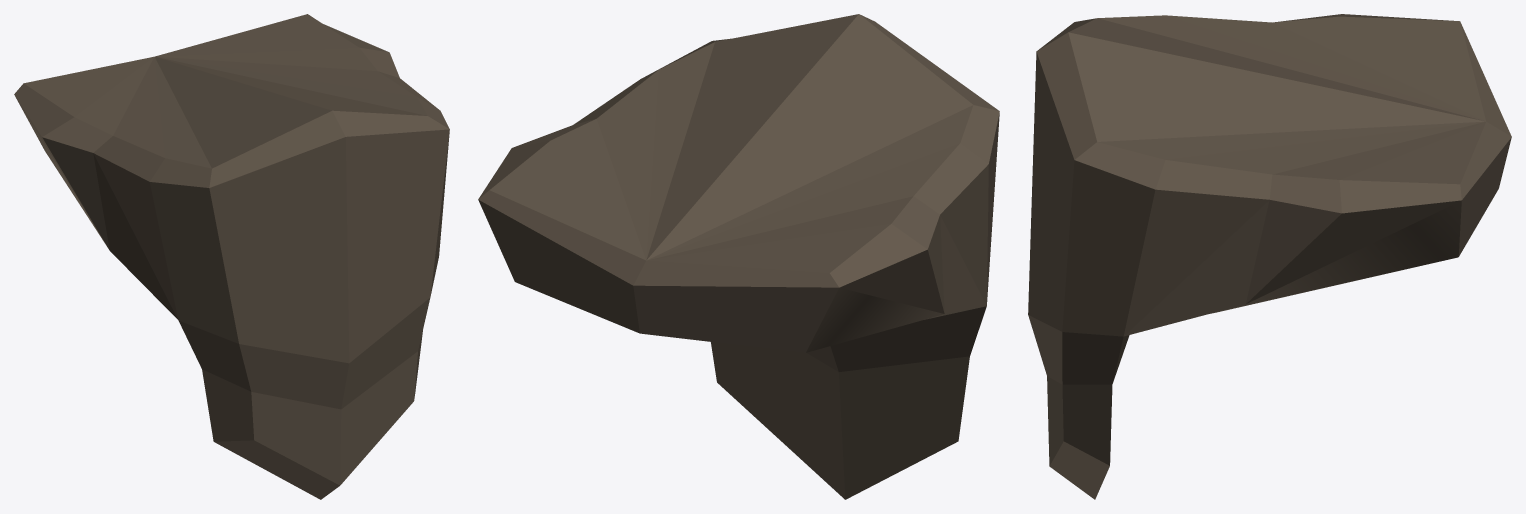
The model's file is Chr_HeadCoverings_No_FacialHair_04_Static.fbx.
3 views of the same model, side by side, from view 1: azimuth 30°, elevation 25°; view 2: azimuth 150°, elevation 25°; view 3: azimuth 270°, elevation 25° (orthographic). The views are drawn at different scales.
Parts seen in each view (by area): view 1: Chr_HeadCoverings_No_FacialHair_04_Static; view 2: Chr_HeadCoverings_No_FacialHair_04_Static; view 3: Chr_HeadCoverings_No_FacialHair_04_Static.
Part boxes in pixels (x1=…): Chr_HeadCoverings_No_FacialHair_04_Static: x1=14, y1=14, x2=449, y2=499; Chr_HeadCoverings_No_FacialHair_04_Static: x1=478, y1=14, x2=999, y2=499; Chr_HeadCoverings_No_FacialHair_04_Static: x1=1028, y1=14, x2=1511, y2=499.
Size of the model in its own units: 0.2654 by 0.2901 by 0.272.
